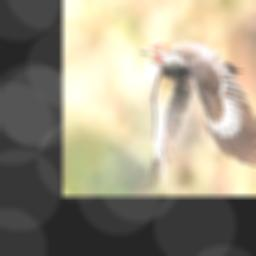Woodpecker: (140, 41, 256, 185)
